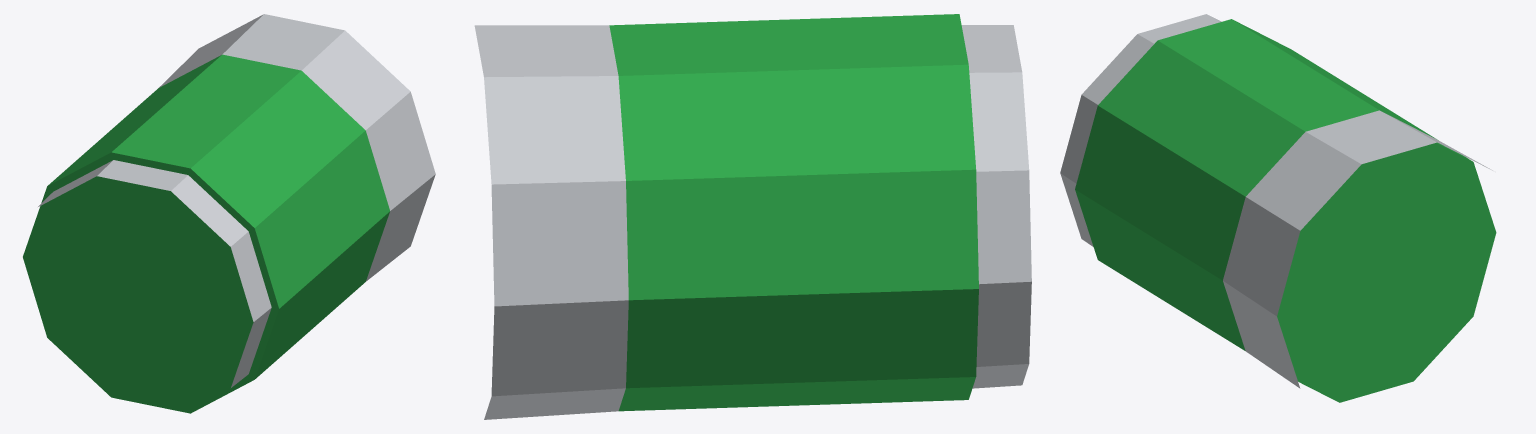
File: trash_can.glb
3 views of the same model, side by side, from view 1: azimuth 30°, elevation 25°; view 2: azimuth 150°, elevation 25°; view 3: azimuth 270°, elevation 25° (orthographic). The views are drawn at different scales.
Visible parts, largest first — view 1: paint, metal; view 2: paint, metal; view 3: paint, metal.
Part boxes in pixels (x1,y1,x2,y2): paint: [23, 54, 389, 413]; metal: [38, 14, 435, 387]; paint: [609, 14, 978, 411]; metal: [474, 25, 1031, 419]; paint: [1075, 19, 1496, 402]; metal: [1060, 14, 1492, 388].
Size of the model in its own units: 0.1529 by 0.0875 by 0.1432.
